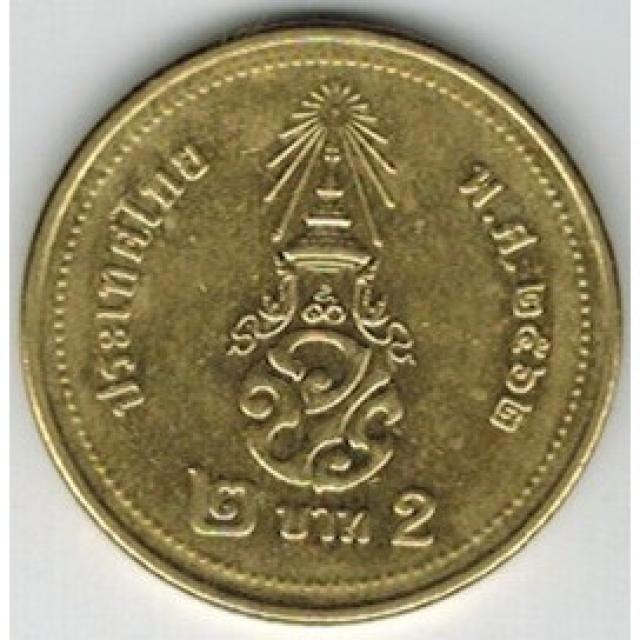2 Bath: (19, 13, 629, 628)
